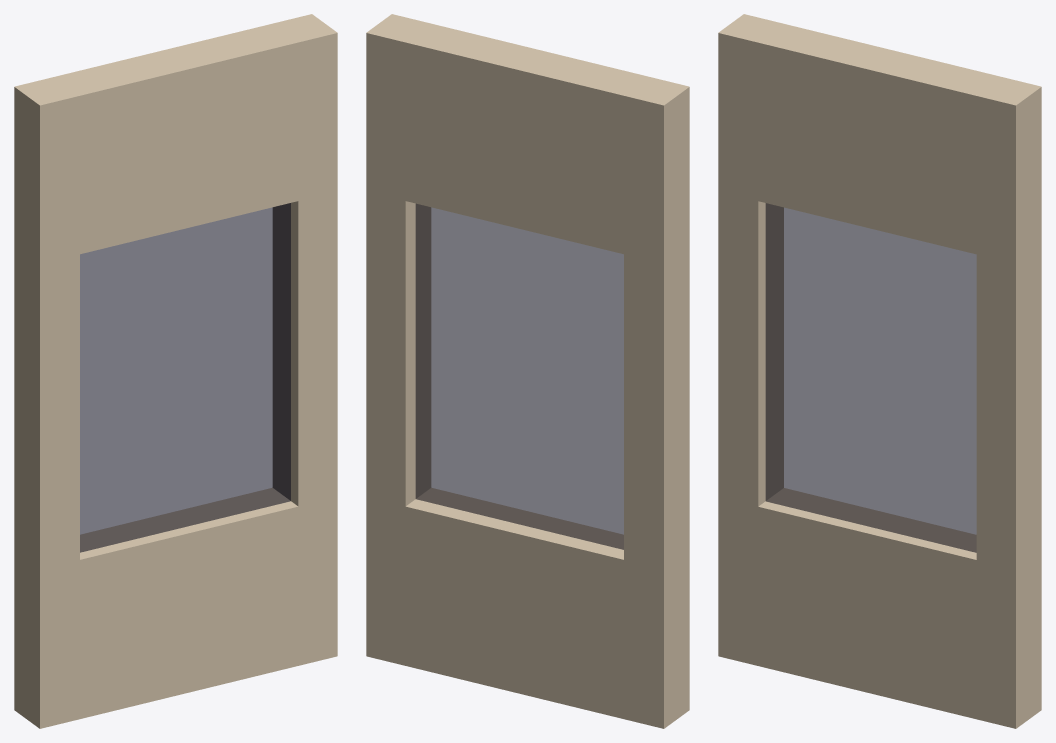
The model's file is CreamWindow.glb.
3 renders of one model, left to right at view 1: azimuth 30°, elevation 25°; view 2: azimuth 150°, elevation 25°; view 3: azimuth 330°, elevation 25°, orthographic.
Visible parts, largest first — view 1: wall_cream_window; view 2: wall_cream_window; view 3: wall_cream_window.
Boxes of the visible parts, x1,y1,x2,y2 form: wall_cream_window: (14, 14, 337, 728); wall_cream_window: (366, 14, 689, 728); wall_cream_window: (718, 14, 1041, 728).
Size of what is drawn, in the model's own units: 2 by 4 by 0.3.
2 materials, 2 textured.
